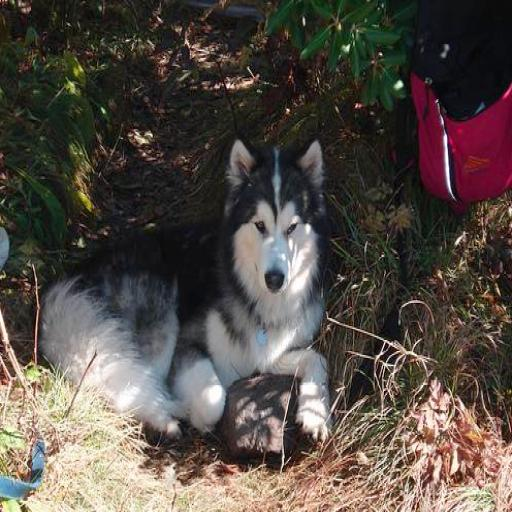dog_face: (222, 131, 331, 298)
